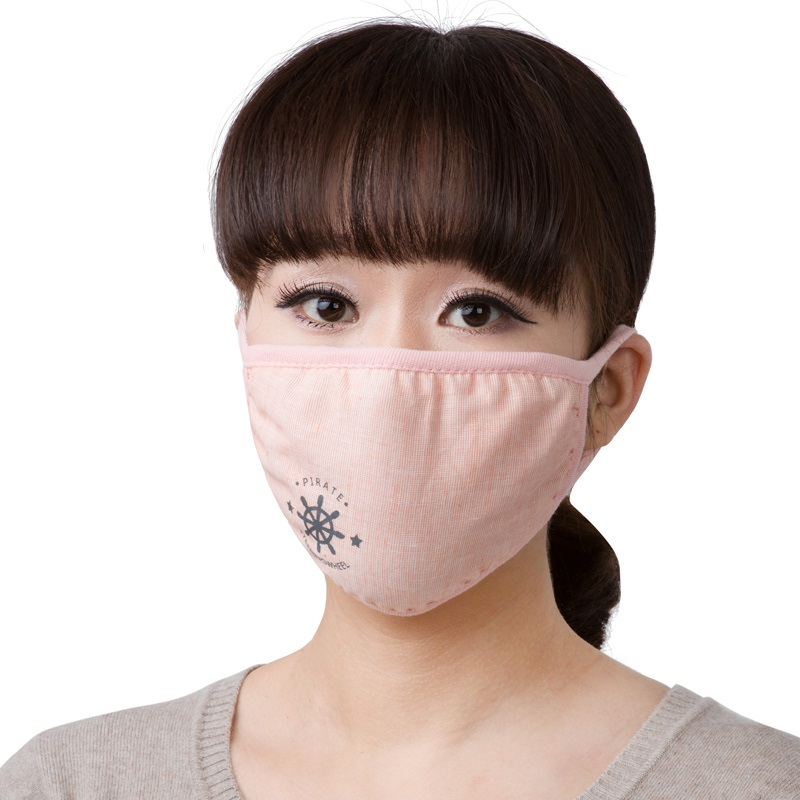face_mask: (248, 156, 581, 612)
